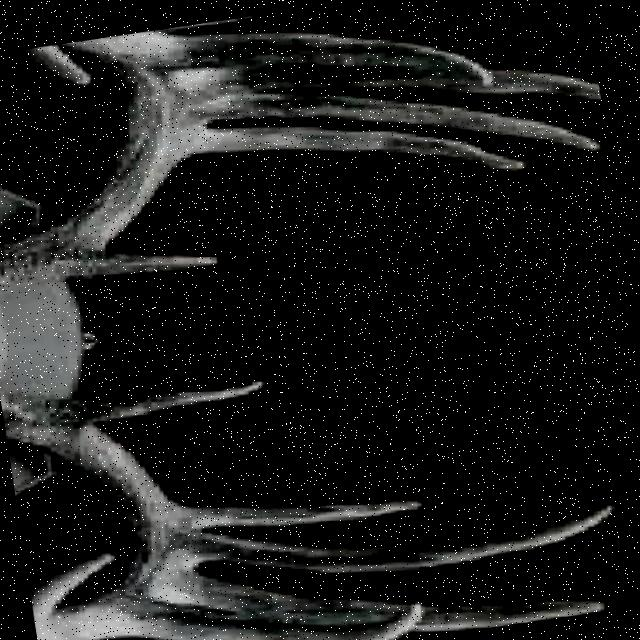L-F: (0, 30, 190, 285)
L-G1: (52, 246, 222, 279)
L-G2: (181, 119, 529, 168)
L-G3: (190, 90, 600, 145)
L-G4: (147, 28, 493, 81)
R-F: (1, 393, 186, 640)
R-G1: (50, 376, 269, 426)
R-G2: (174, 496, 427, 527)
R-G3: (185, 495, 620, 571)
